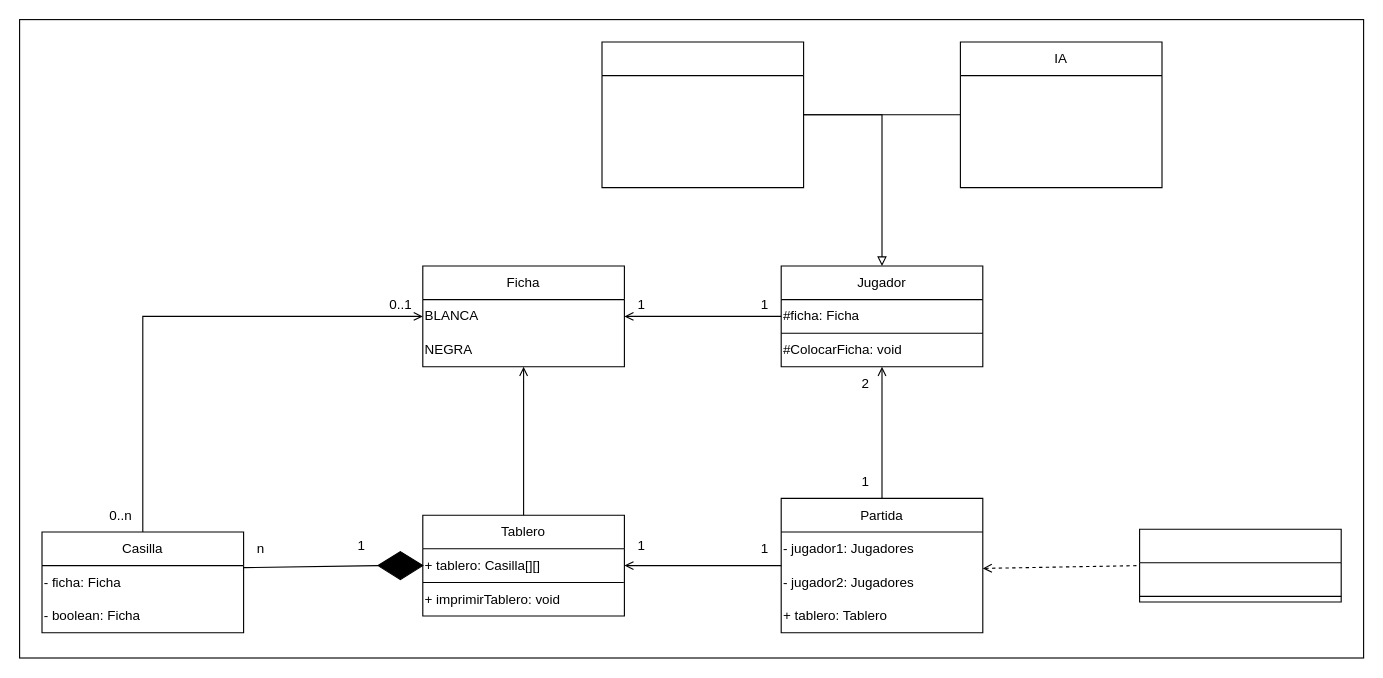
The diagram is 1383 pixels wide and 678 high, and some of its shapes have lost their labels. Here are the shapes that lost their labels. From the top down, the centre of each, then its label:
At point 702,114: "Persona".
At point 1239,565: "Main".
